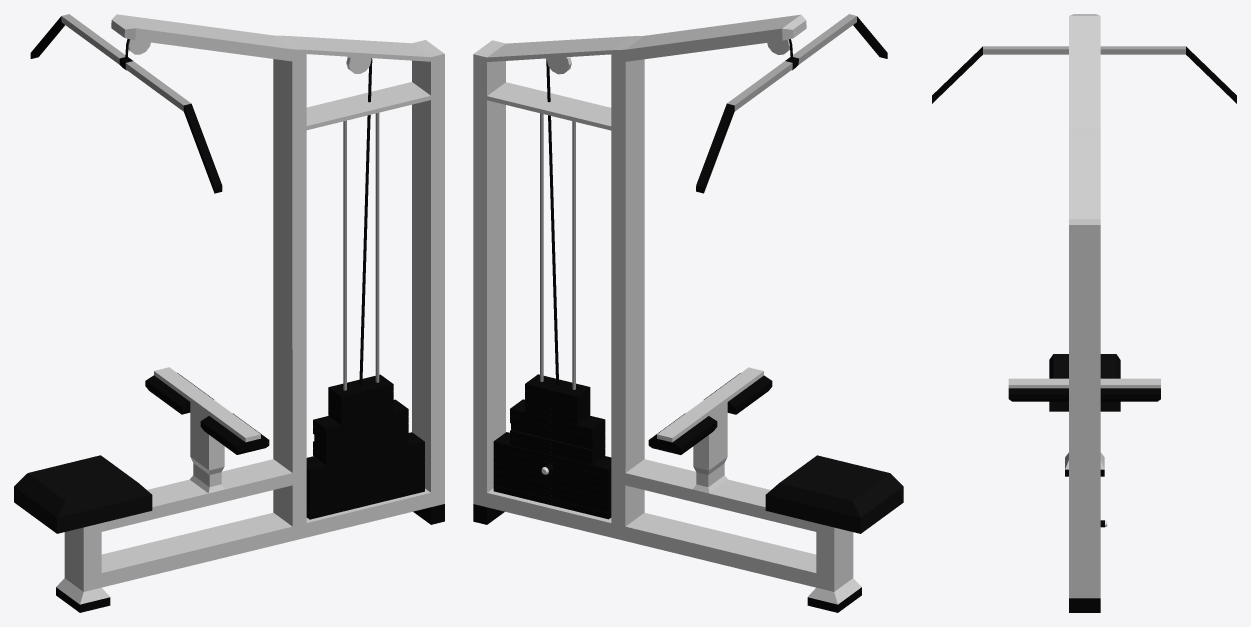
File: LatPullDownMachine.001.fbx
3 renders of one model, left to right at view 1: azimuth 30°, elevation 25°; view 2: azimuth 150°, elevation 25°; view 3: azimuth 270°, elevation 25°, orthographic. The views are drawn at different scales.
Parts seen in each view (by area): view 1: LatPullDownMachine.001; view 2: LatPullDownMachine.001; view 3: LatPullDownMachine.001.
Boxes of the visible parts, bbox=[...] form: LatPullDownMachine.001: bbox=[14, 14, 444, 612]; LatPullDownMachine.001: bbox=[473, 14, 903, 612]; LatPullDownMachine.001: bbox=[932, 14, 1236, 612].
Size of the model in its own units: 147 by 200 by 117.
